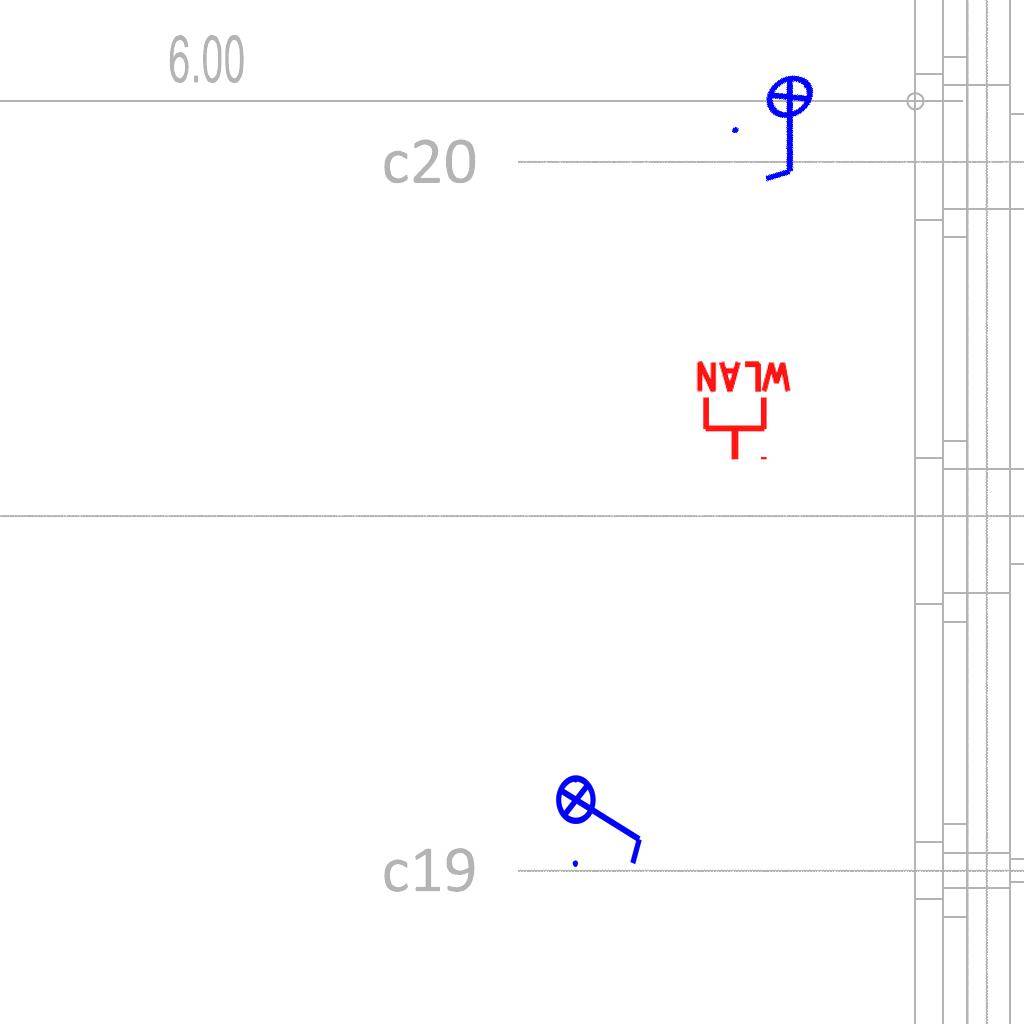Ausschalter_beleuchtet: (716, 57, 862, 199), (554, 761, 650, 873)
WLAN: (692, 359, 796, 464)
